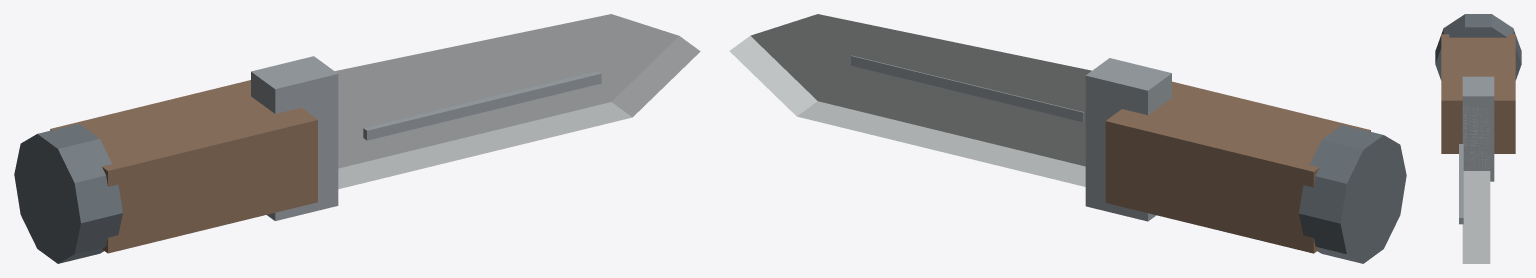
Rendered from hunting_knife.glb.
The picture shows the model from 3 angles, left to right: view 1: azimuth 30°, elevation 25°; view 2: azimuth 150°, elevation 25°; view 3: azimuth 270°, elevation 25°; orthographic projection. The views are drawn at different scales.
Visible parts, largest first — view 1: 03_blade, 00_grip, 01_pommel, 02_guard, 04_blade_spine; view 2: 03_blade, 00_grip, 01_pommel, 02_guard, 04_blade_spine; view 3: 00_grip, 03_blade, 02_guard, 01_pommel, 04_blade_spine.
Boxes of the visible parts, <box> form: 03_blade: <box>335,14,700,189</box>; 00_grip: <box>50,80,317,253</box>; 01_pommel: <box>14,123,122,263</box>; 02_guard: <box>251,56,338,220</box>; 04_blade_spine: <box>363,71,601,140</box>; 03_blade: <box>729,14,1091,186</box>; 00_grip: <box>1105,81,1370,253</box>; 01_pommel: <box>1299,125,1406,263</box>; 02_guard: <box>1085,58,1171,221</box>; 04_blade_spine: <box>851,55,1083,122</box>; 00_grip: <box>1441,34,1515,153</box>; 03_blade: <box>1462,107,1490,263</box>; 02_guard: <box>1462,76,1494,181</box>; 01_pommel: <box>1435,14,1521,80</box>; 04_blade_spine: <box>1459,144,1463,224</box>.
Size of the model in its own units: 0.61 by 0.12 by 0.11.
